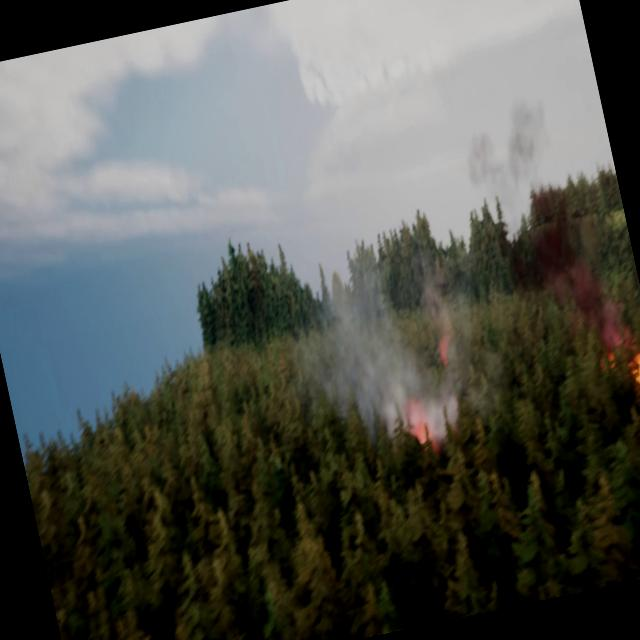fire: (403, 398, 440, 457), (613, 324, 640, 385)
smoke: (457, 84, 635, 383), (284, 218, 480, 477)
